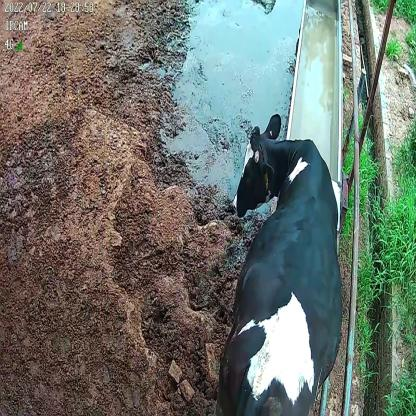cow: (215, 111, 344, 416)
